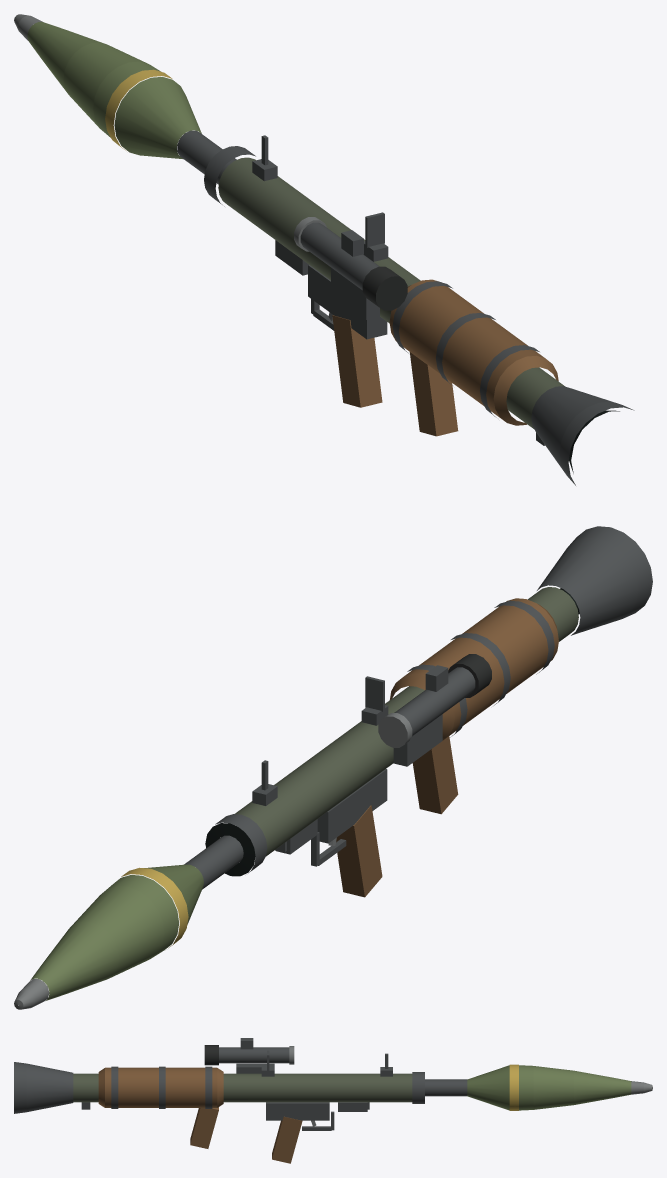
Rendered from rpg_launcher.glb.
3 views of the same model, one above another, from view 1: azimuth 30°, elevation 25°; view 2: azimuth 150°, elevation 25°; view 3: azimuth 270°, elevation 25° (orthographic). The views are drawn at different scales.
Parts seen in each view (by area): view 1: Tube, Warhead; view 2: Tube, Warhead; view 3: Tube, Warhead.
Part boxes in pixels (box(x1,y1,x2,y2)): Tube: box(204, 135, 634, 485); Warhead: box(14, 14, 236, 184); Tube: box(205, 526, 652, 897); Warhead: box(14, 835, 243, 1009); Tube: box(14, 1038, 424, 1163); Warhead: box(425, 1064, 652, 1110).
Bounding box in the file's own units: 0.1474 × 0.2874 × 1.51.
